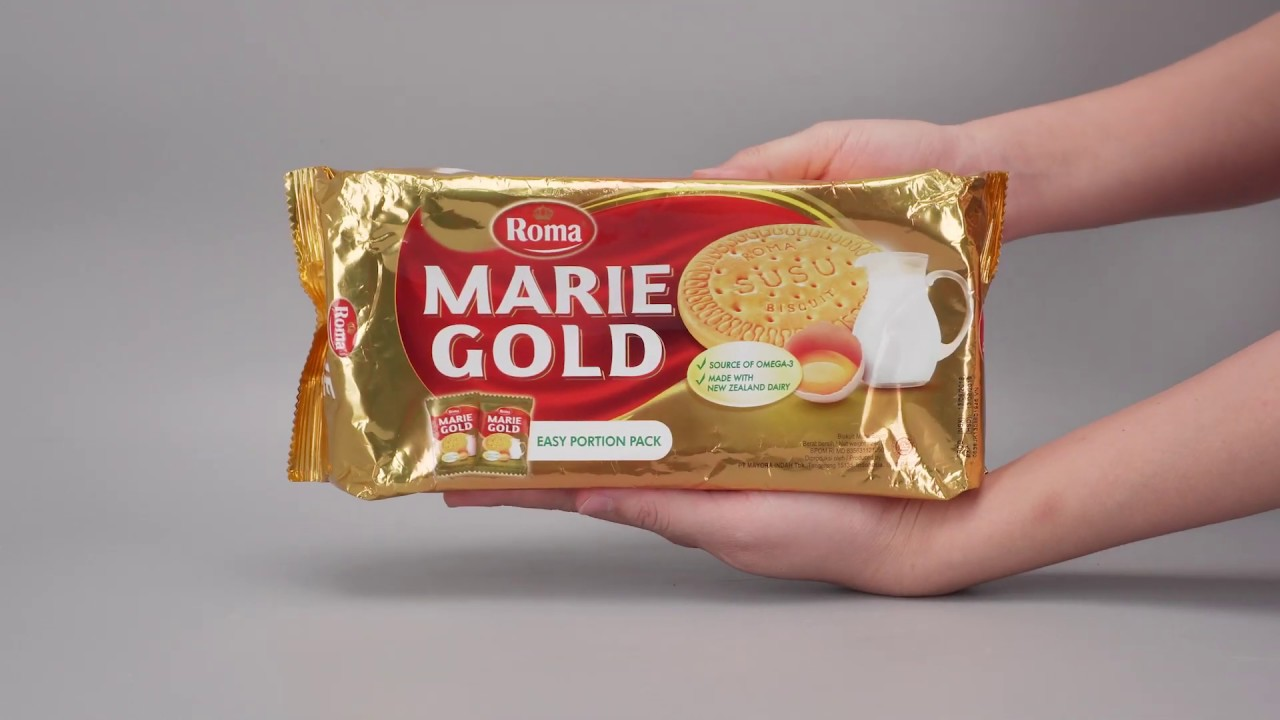Roma Marie Gold (240g): (242, 131, 1025, 532)
